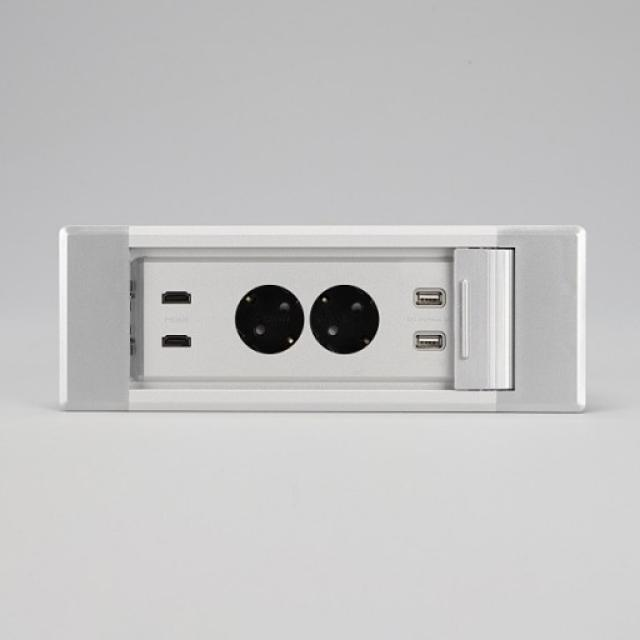typeb: (39, 176, 640, 507)
